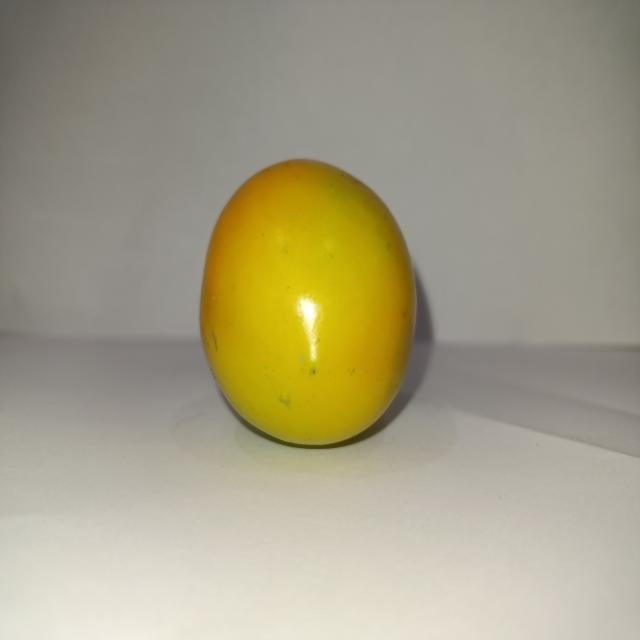Red: (198, 156, 418, 448)
